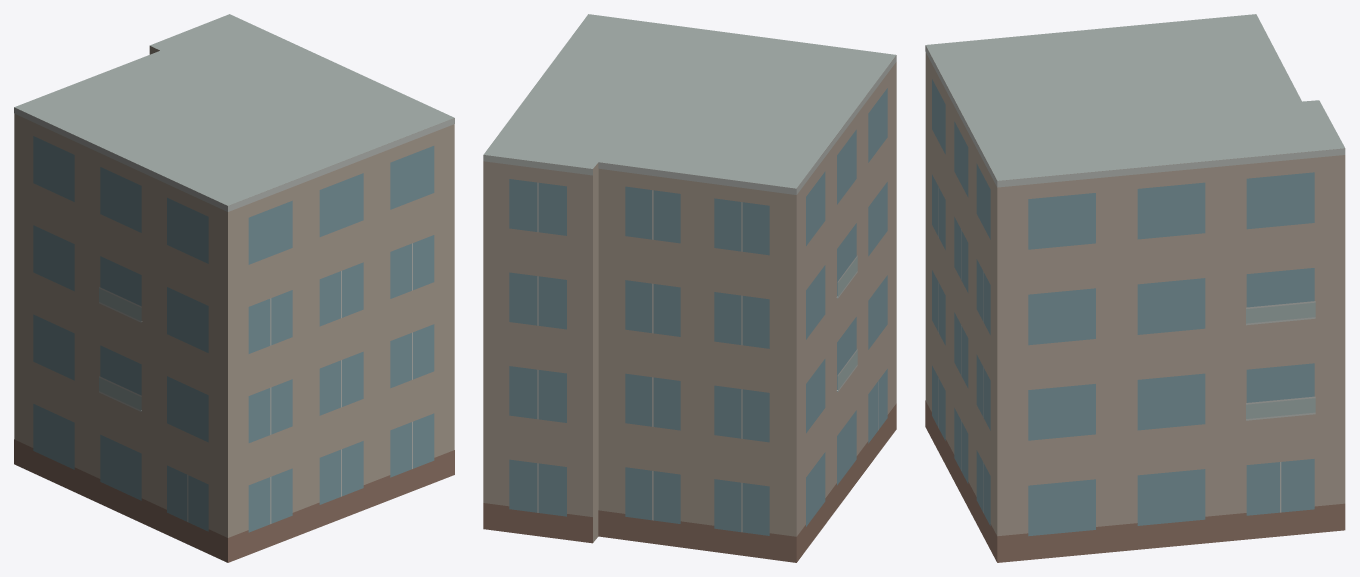
File: survey-upis-32804216.glb
The picture shows the model from 3 angles, left to right: view 1: azimuth 30°, elevation 25°; view 2: azimuth 150°, elevation 25°; view 3: azimuth 270°, elevation 25°; orthographic projection. The views are drawn at different scales.
Parts seen in each view (by area): view 1: survey-upis-32804216.tmp; view 2: survey-upis-32804216.tmp; view 3: survey-upis-32804216.tmp.
Part boxes in pixels (box(x1,y1,x2,y2)): survey-upis-32804216.tmp: box(14, 14, 454, 562); survey-upis-32804216.tmp: box(483, 14, 896, 562); survey-upis-32804216.tmp: box(925, 14, 1345, 562).
Bounding box in the file's own units: 13.22 × 14.1 × 14.06.
